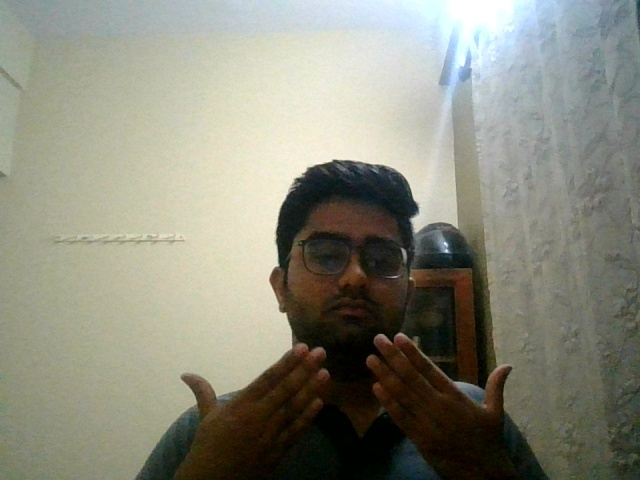Thank You: (161, 330, 542, 480)
